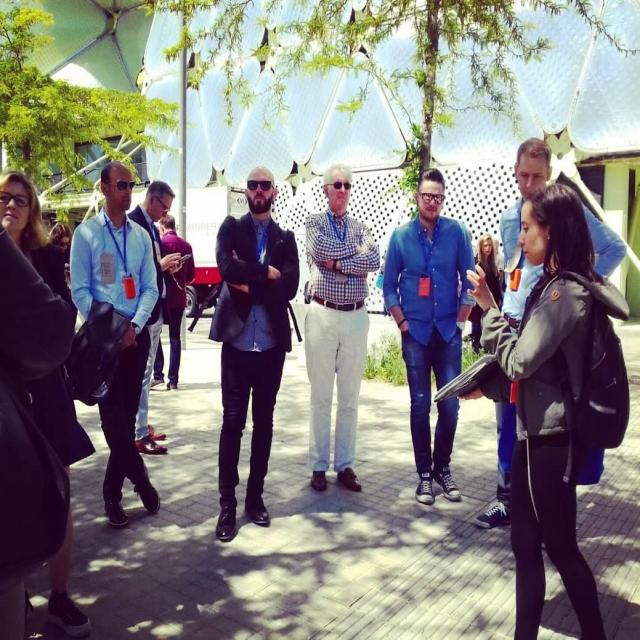body: (430, 183, 637, 639), (470, 135, 628, 532), (0, 170, 94, 628), (60, 157, 164, 530), (208, 162, 304, 542), (0, 183, 73, 640), (382, 169, 477, 502), (296, 160, 383, 494), (126, 180, 192, 456), (148, 214, 198, 392), (466, 233, 502, 356)
